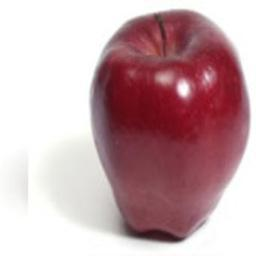apple: (89, 9, 252, 239)
